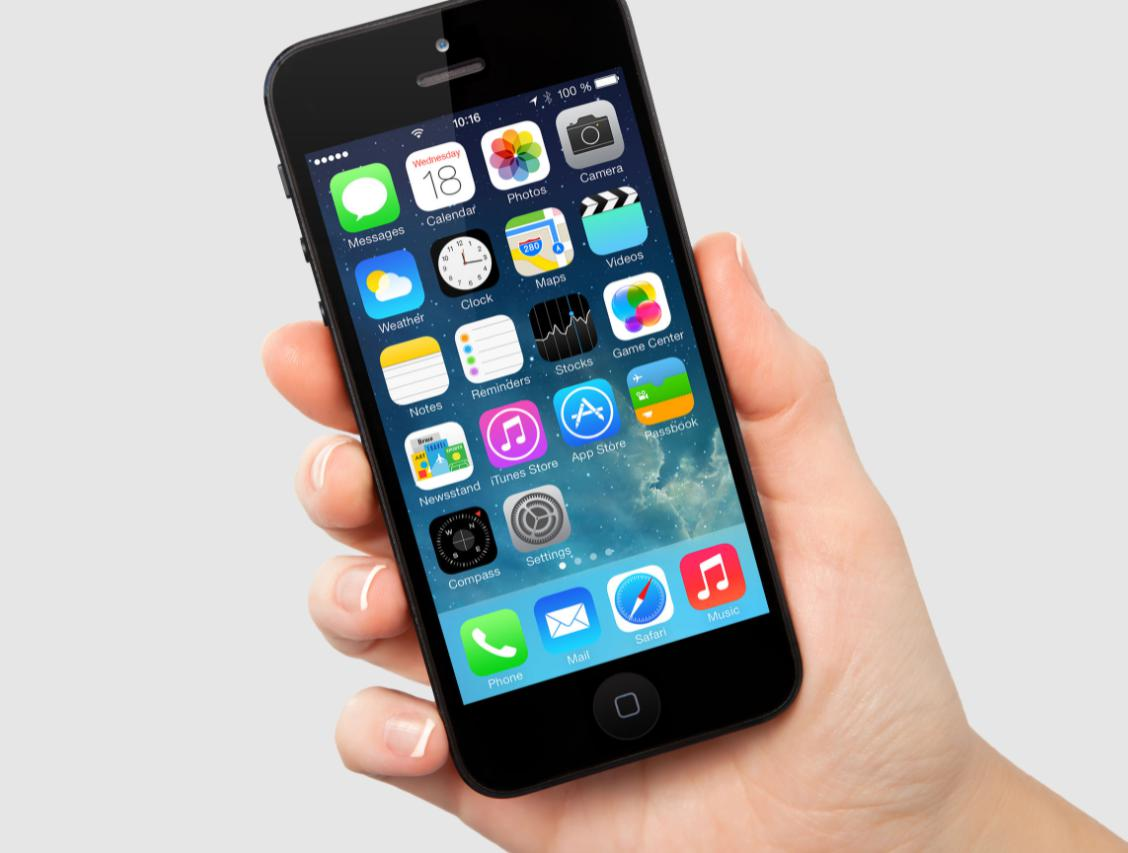mobile: (265, 2, 804, 799)
